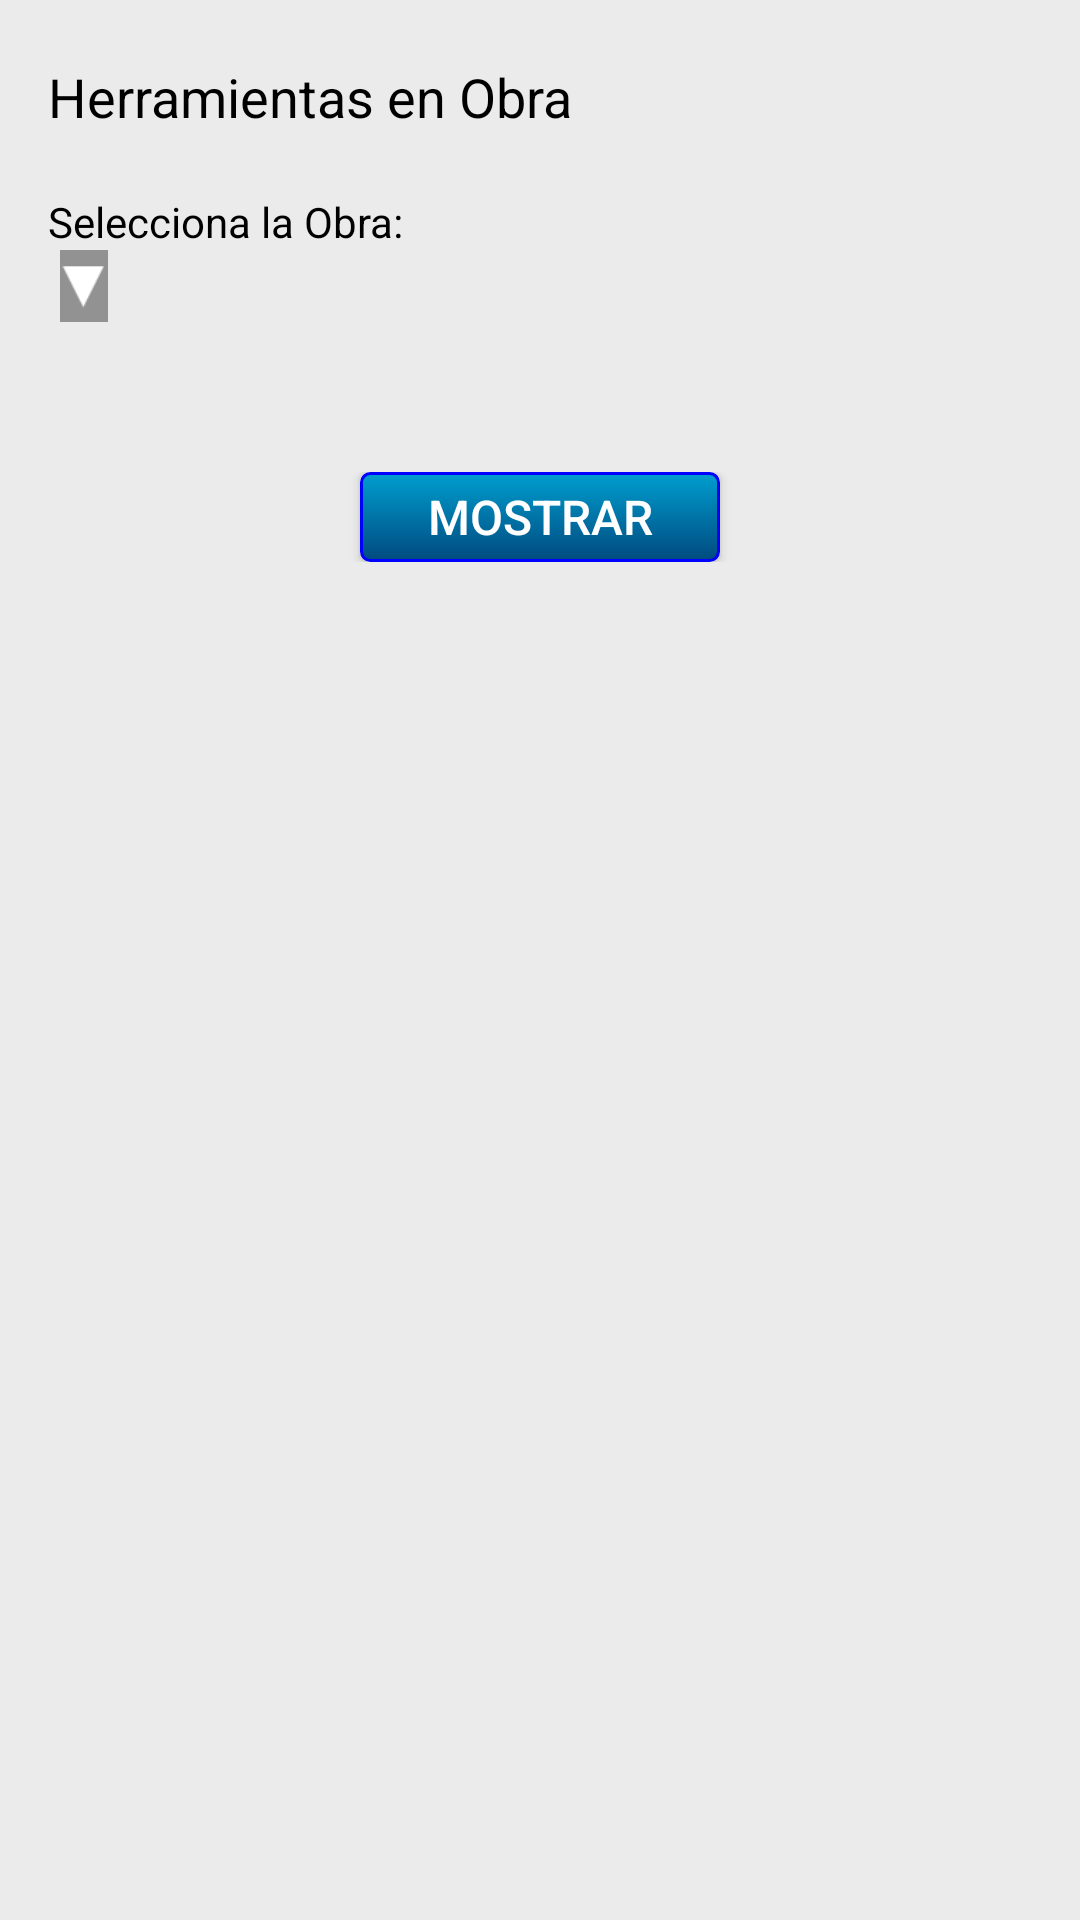

Icon bounding boxes for this 1080 × 1920 phone screenshot, format [x1=x1, y1=y1, x2=x2, y2=y2]:
spinner dropdown: [x1=60, y1=250, x2=108, y2=322]
